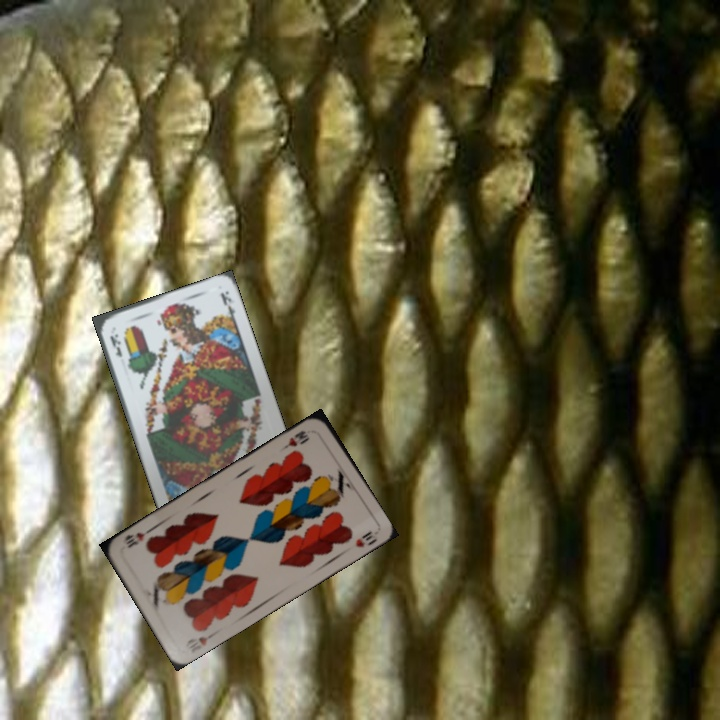EK: (106, 330, 125, 360)
H10: (279, 426, 313, 452), (182, 628, 218, 650)
